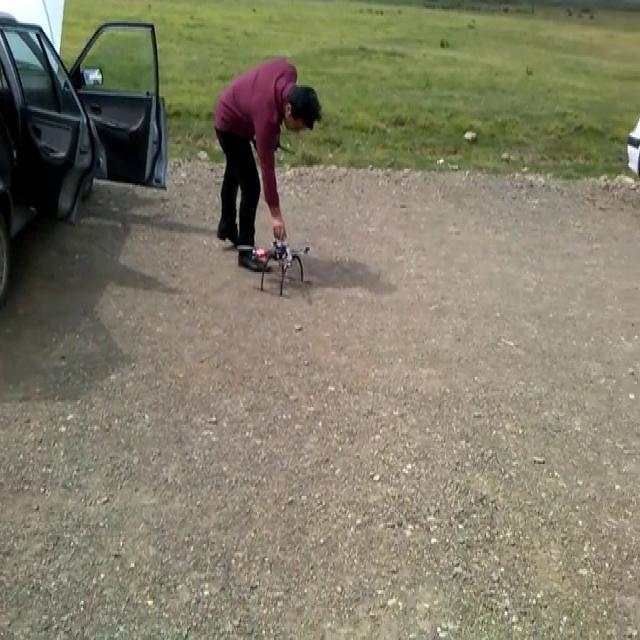drone: (238, 233, 312, 290)
